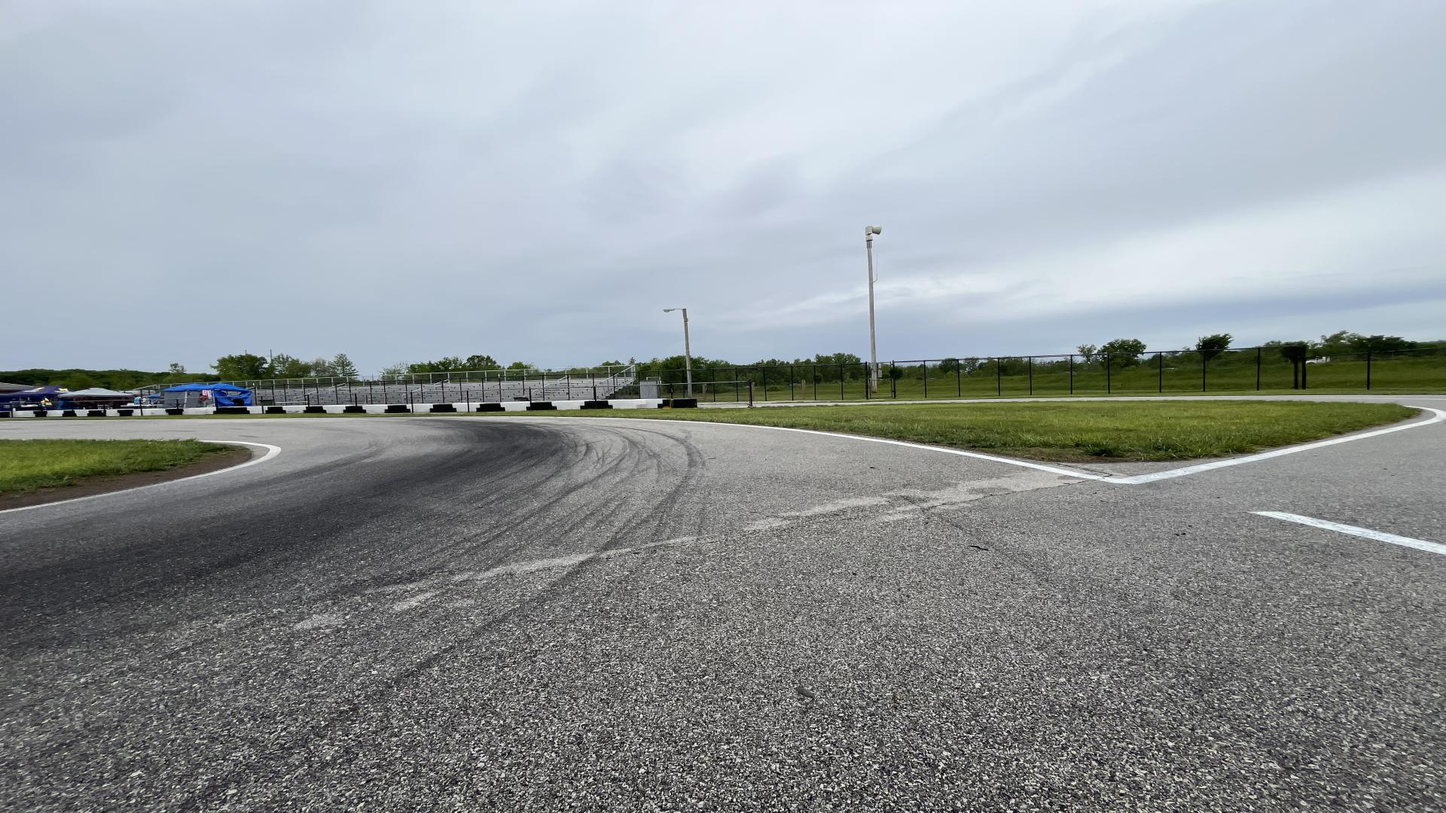white-line: (409, 406, 1445, 484), (1, 439, 280, 513), (1248, 507, 1445, 556)
